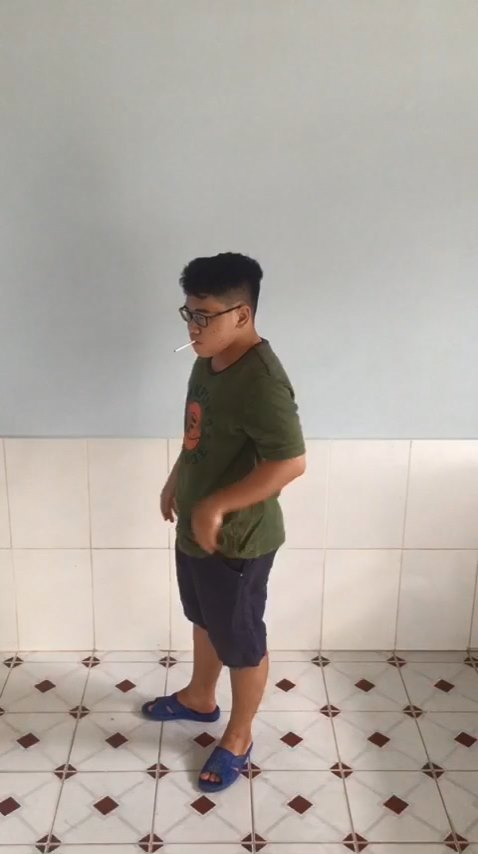cigarette: (175, 337, 199, 353)
person: (131, 238, 315, 820)
